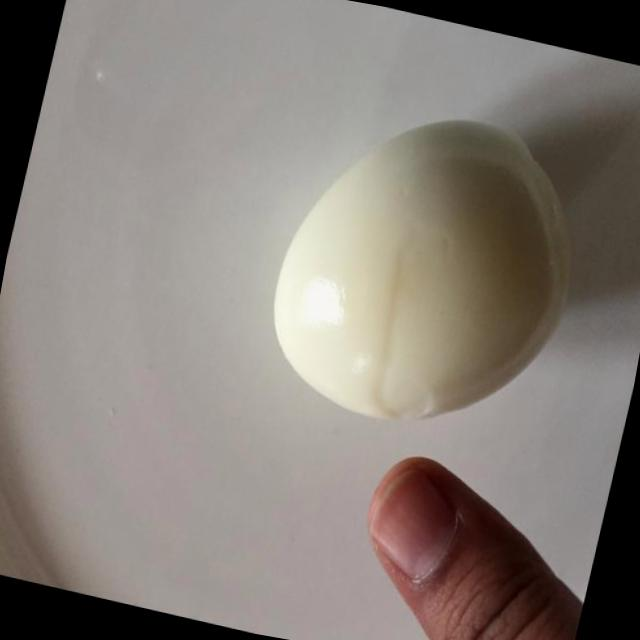Egg: (234, 71, 615, 468)
Finger: (322, 436, 591, 640)
